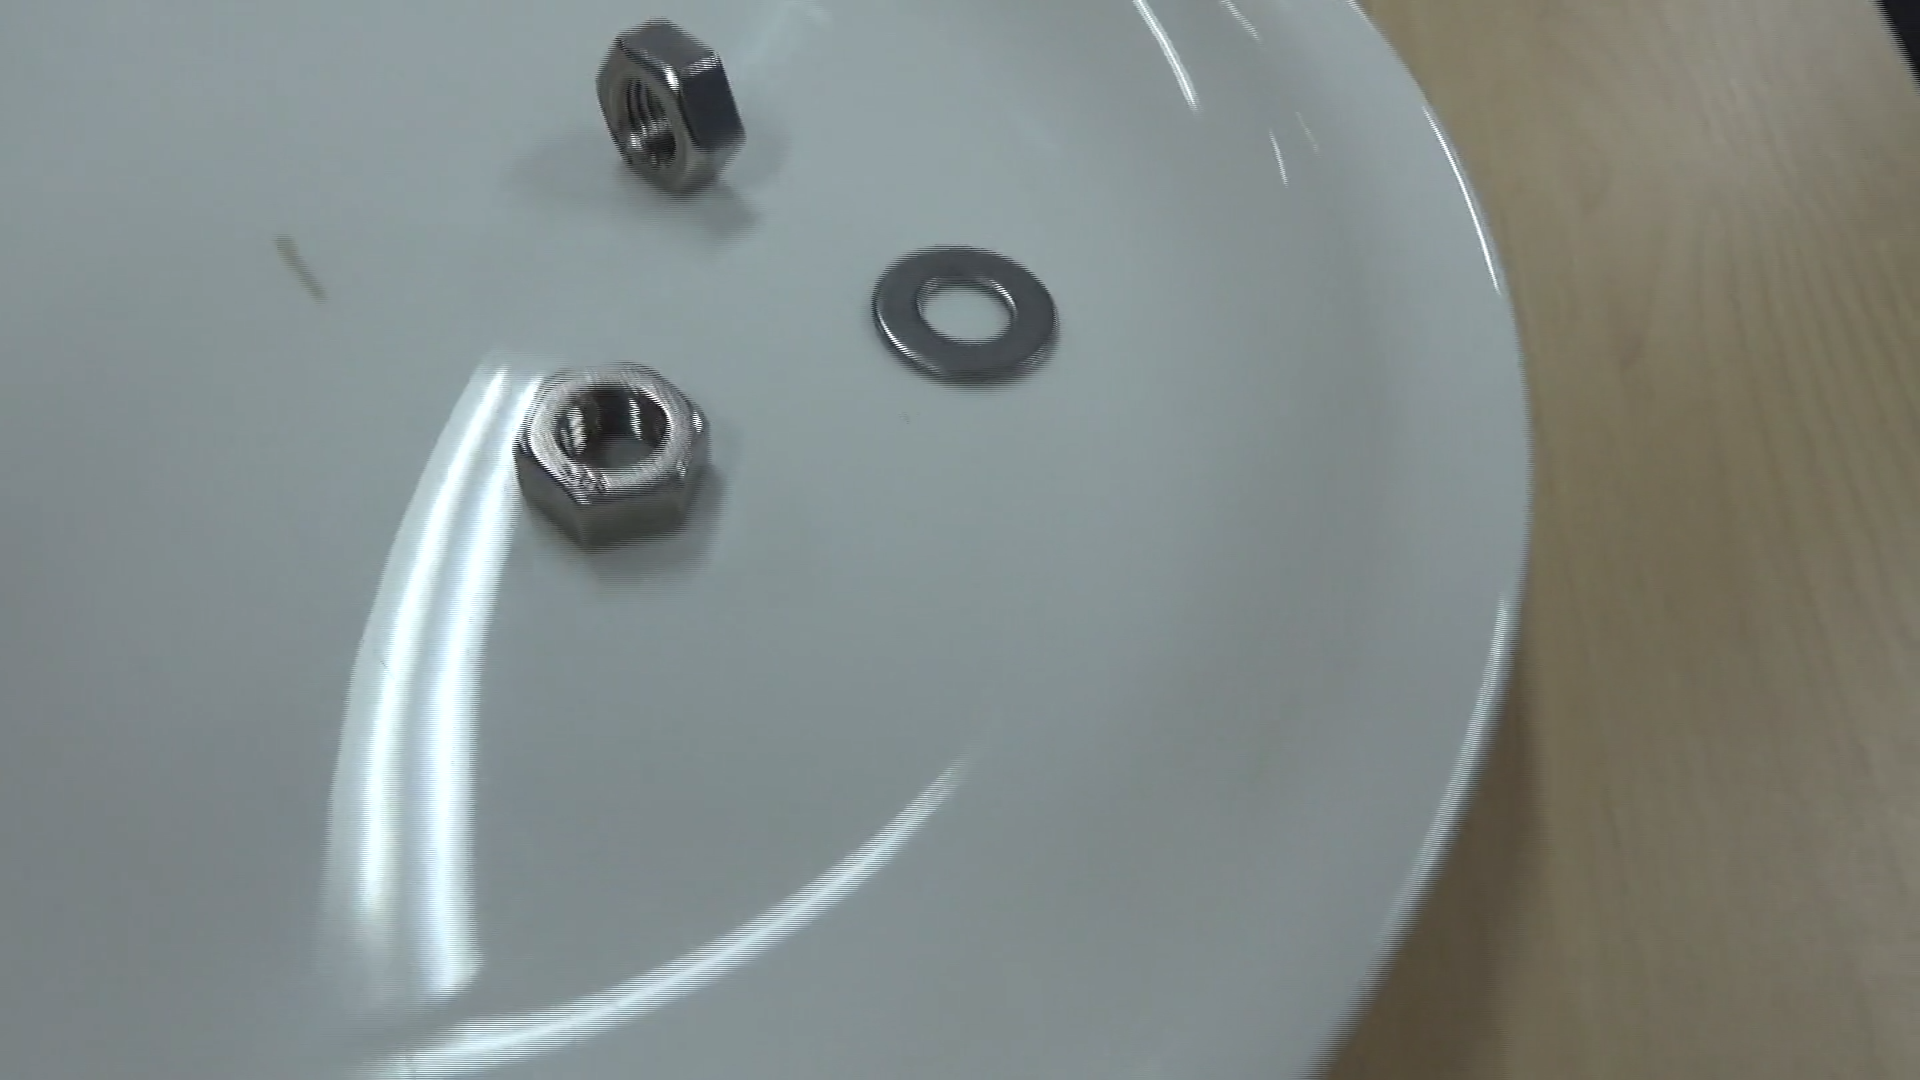nut: (510, 353, 711, 555), (592, 16, 746, 198)
washer: (864, 239, 1059, 392)
